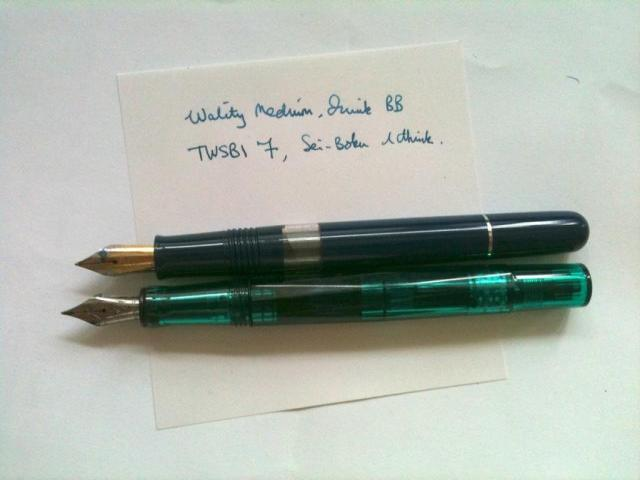PEN: (50, 273, 602, 345), (53, 208, 595, 274)
